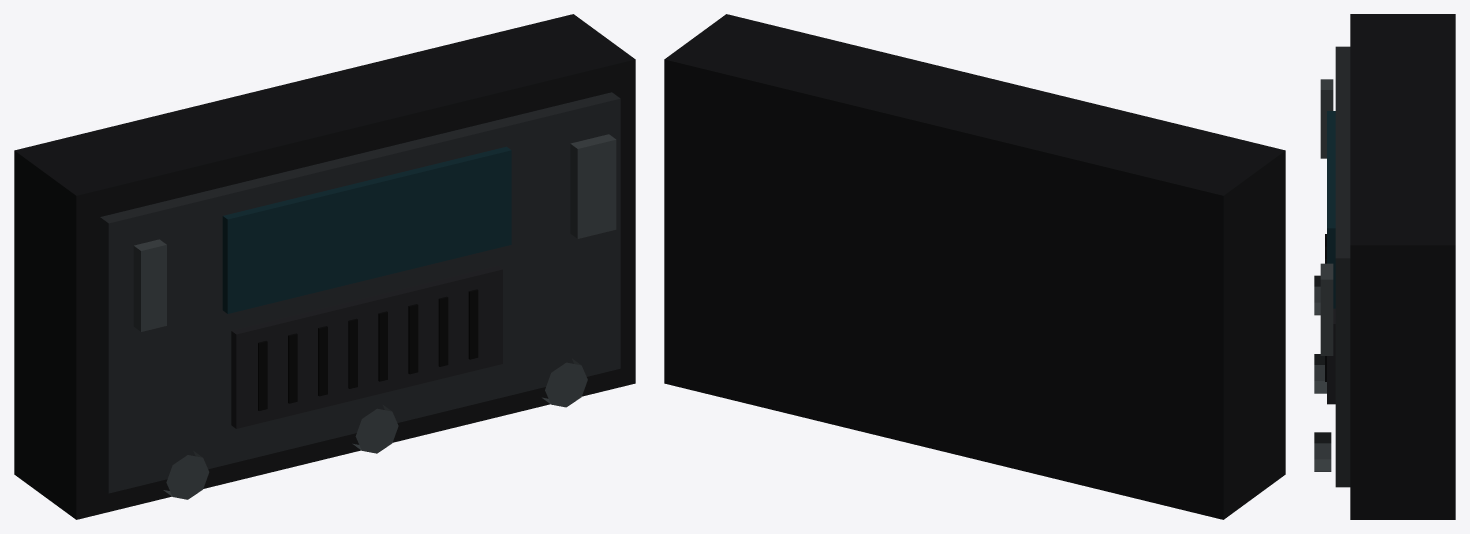
Rendered from Recorder_LOD1.obj.
3 renders of one model, left to right at view 1: azimuth 30°, elevation 25°; view 2: azimuth 150°, elevation 25°; view 3: azimuth 270°, elevation 25°, orthographic. The views are drawn at different scales.
Bounding box in the file's own units: 0.13 × 0.072 × 0.0335.
